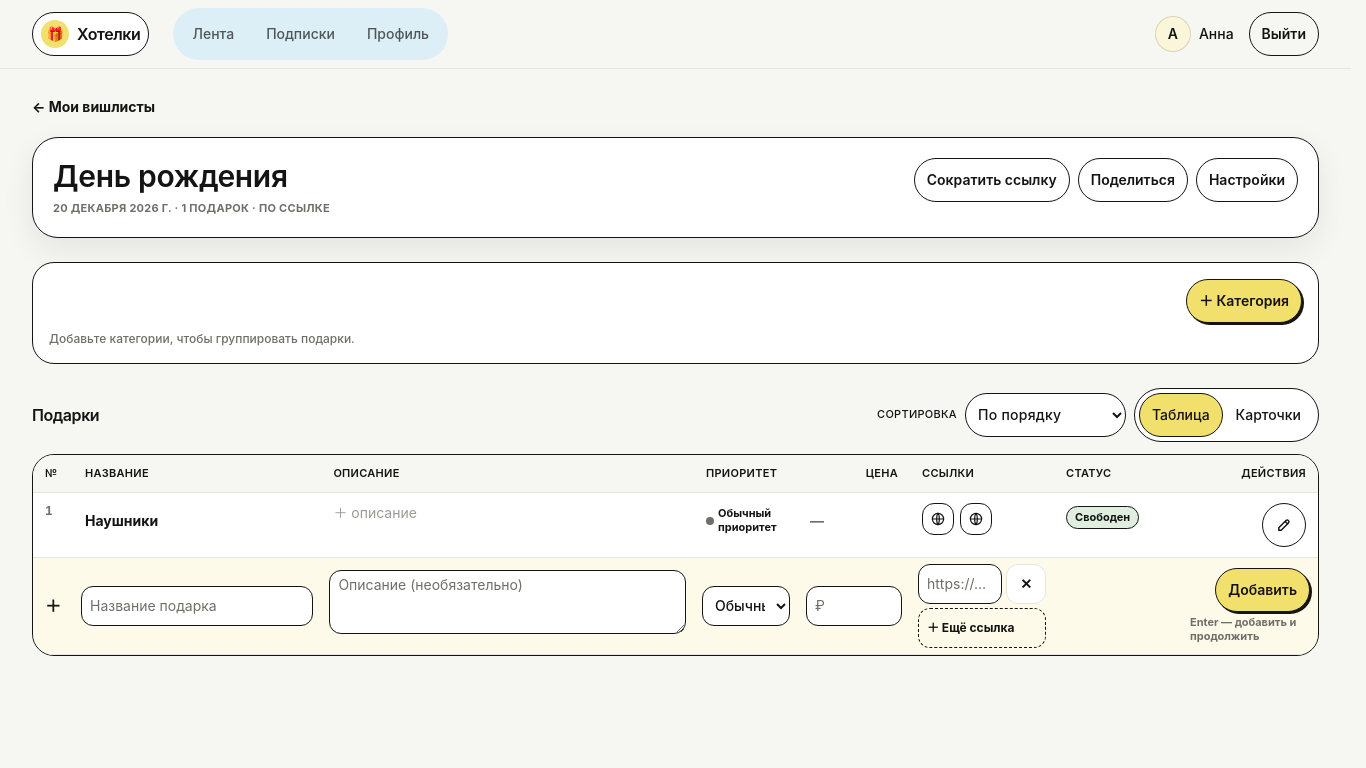
несколько ссылок в модалке подарка › добавляет и меняет ссылки, сохраняя полный массив через PATCH
Expected: the text "Наушники" is shown, left=85, top=511, right=158, bottom=531
Click the button named "Редактировать подарок": (1284, 525) left=1262, top=503, right=1306, bottom=547
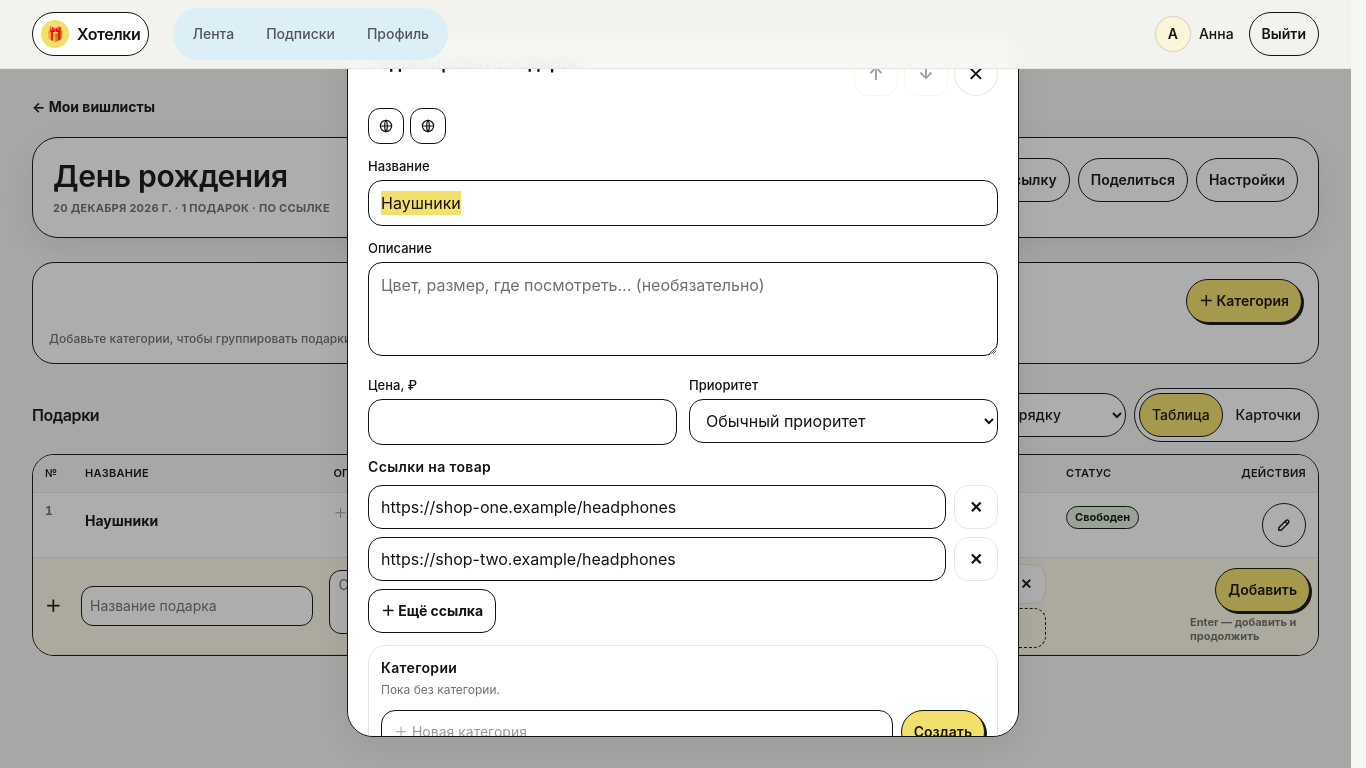
Expected: the field named "Подарка «Наушники»: Ссылка на товар 1" holds "https://shop-one.example/headphones"
Replace the text in the field named "Подарка «Наушники»: Ссылка на товар 1" with "https://shop-three.example/headphones": (657, 507) left=368, top=485, right=946, bottom=529
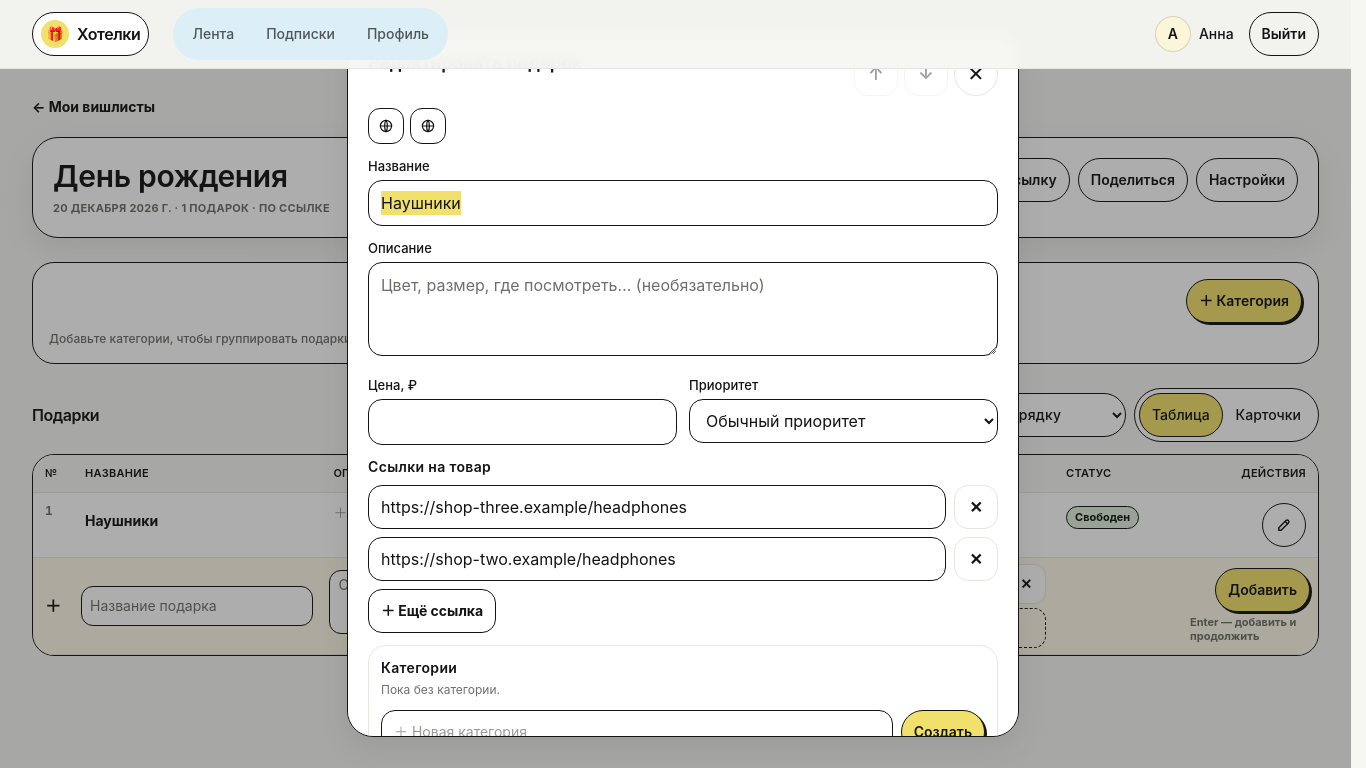
Click the button with aria-label "Подарка «Наушники»: Добавить ссылку": (432, 611) left=368, top=589, right=496, bottom=633
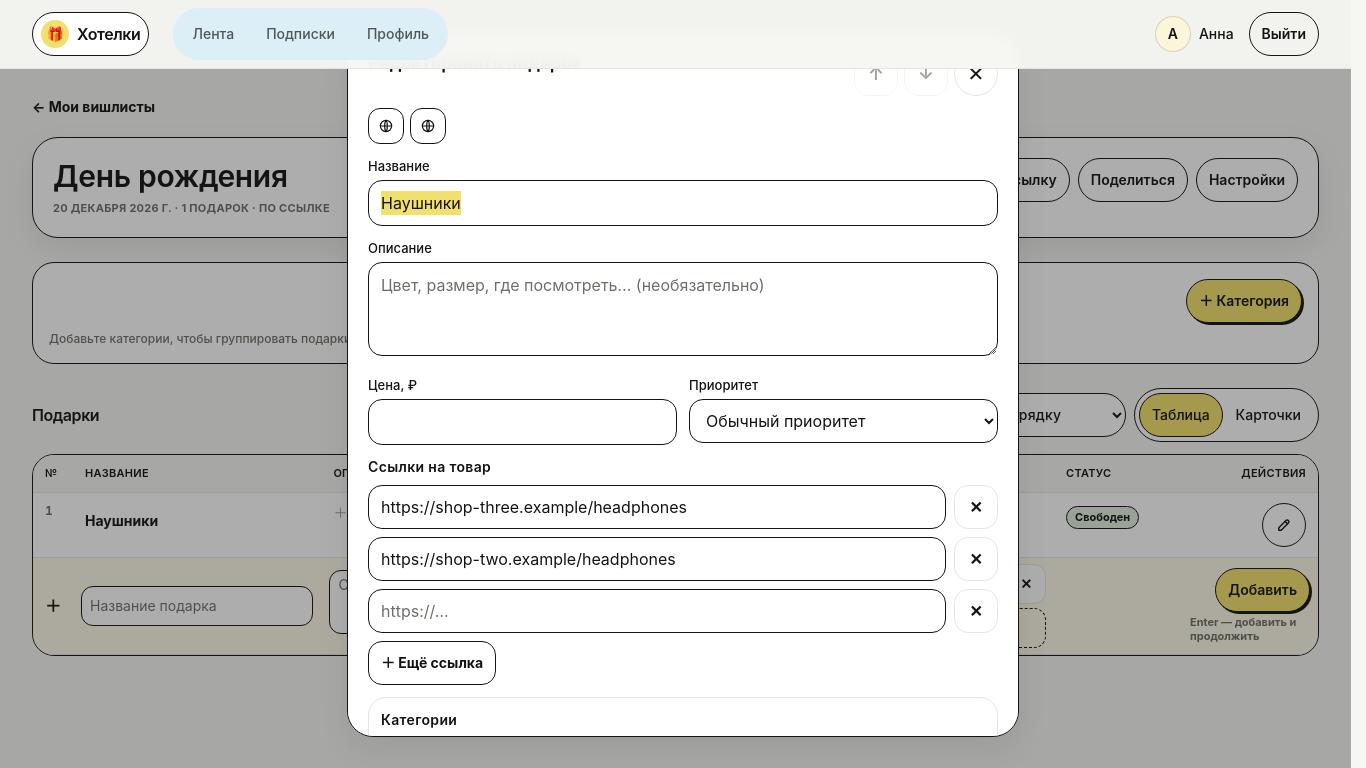
In the field named "Подарка «Наушники»: Ссылка на товар 3": (657, 611) left=368, top=589, right=946, bottom=633, type "https://shop-four.example/headphones"
(page scrolled)
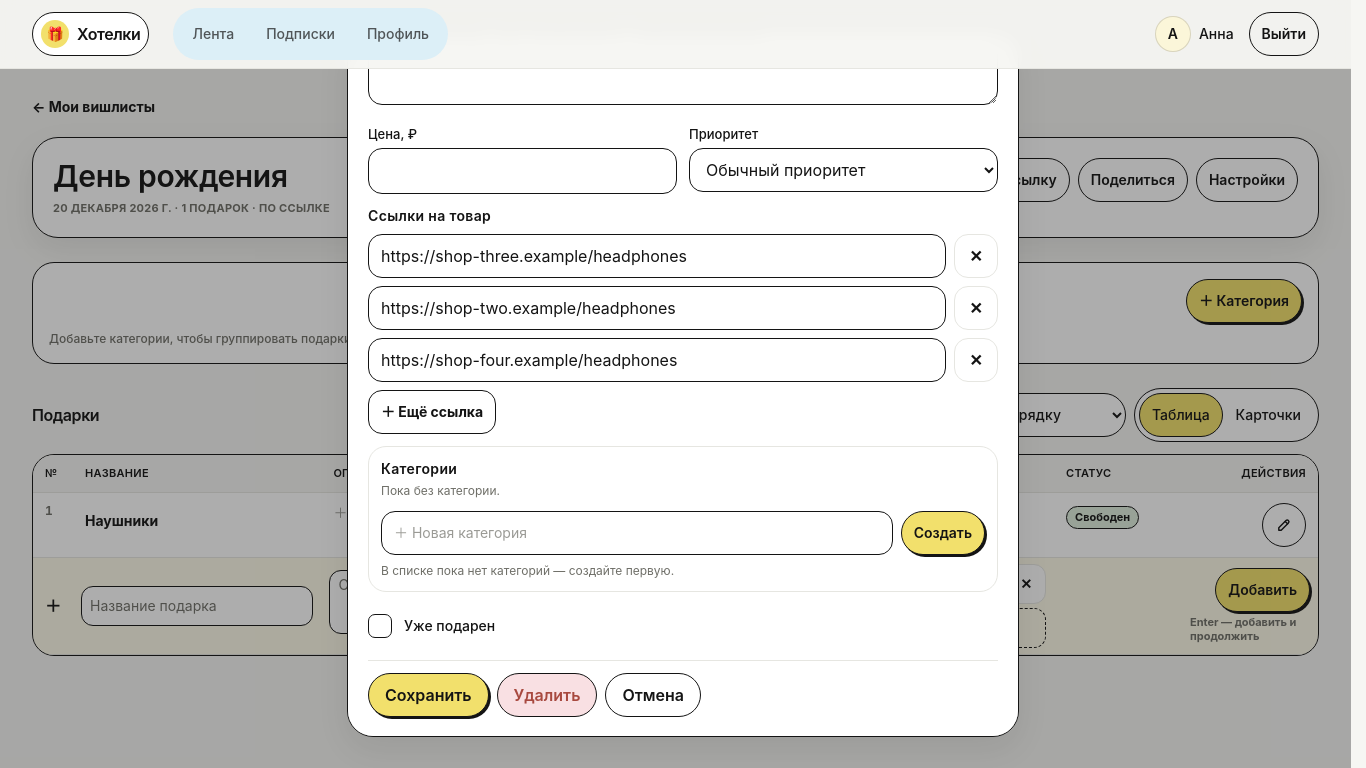
Click the button "Сохранить": (428, 695) left=368, top=673, right=488, bottom=717
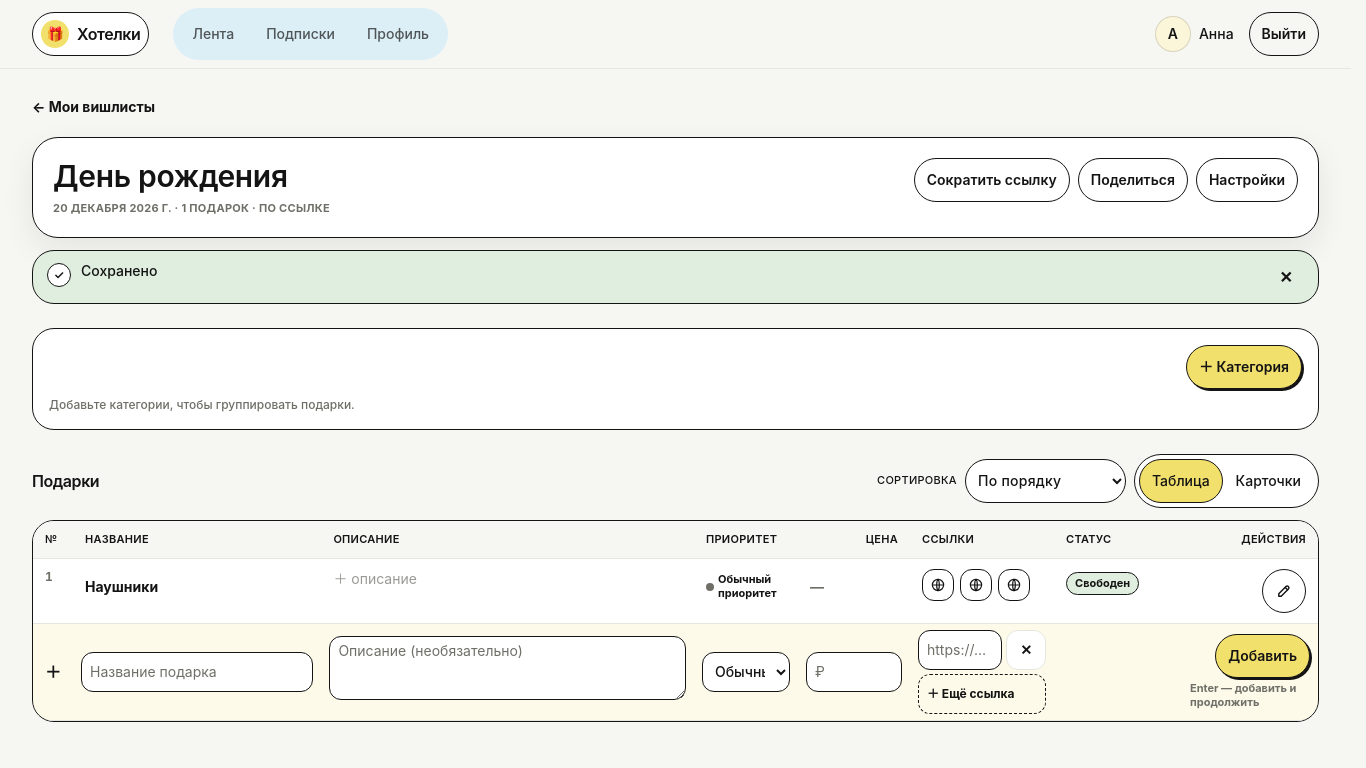
Expected: the text "Сохранено" is shown, left=81, top=262, right=157, bottom=278
